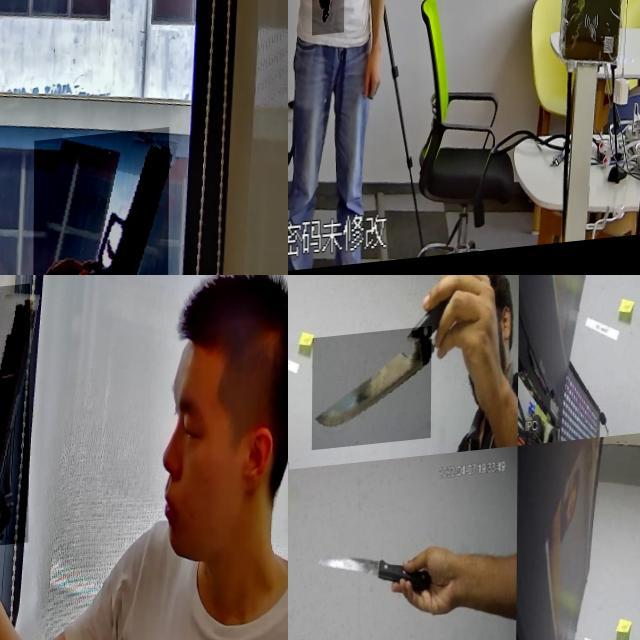-: (312, 331, 432, 453), (312, 544, 436, 614)
gun-knife-thesis - v11 Yolov5 augmented: (33, 135, 169, 275), (0, 290, 55, 557), (312, 0, 344, 44)
